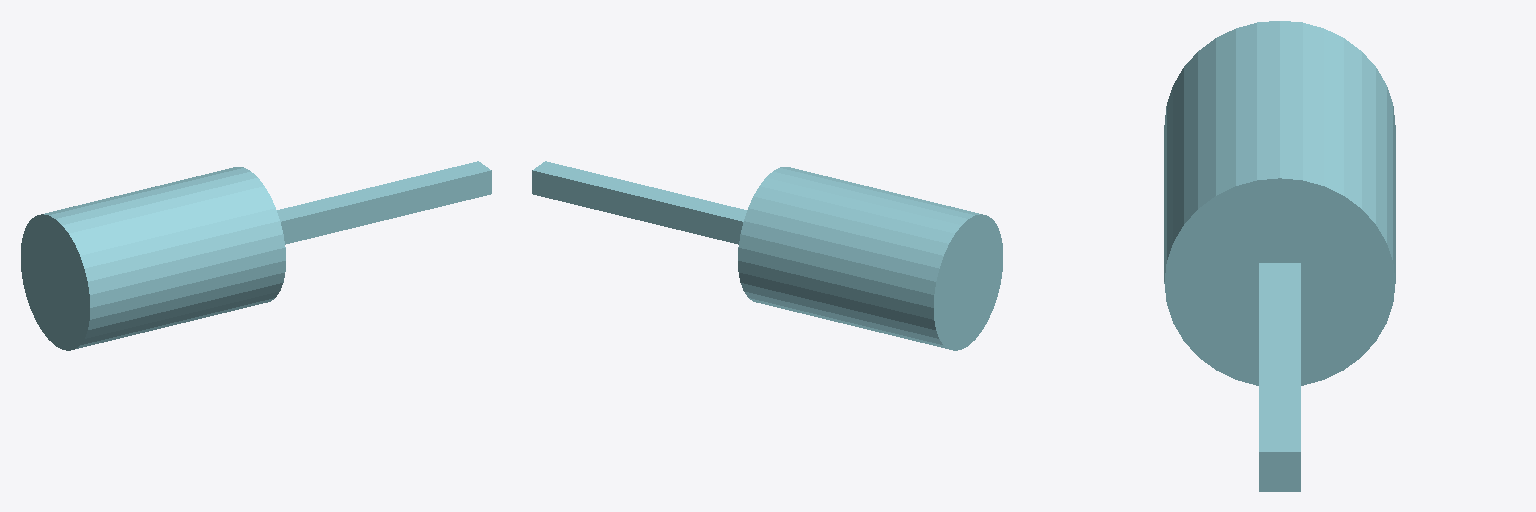
The robot description file, URDF, robot "cylinder_screwdriver_v3007":
<?xml version="1.0"?>
<robot name="cylinder_screwdriver_v3007">

  <link name="cylinder_screwdriver_v3007">
    <!-- Handle -->
    <visual>
      <origin xyz="0 0 0" rpy="0 1.5707963267948966 0"/>
      <geometry>
        <cylinder length="0.11242802443868122" radius="0.034788810108401534"/>
      </geometry>
      <material name="material">
        <color rgba="0.639 0.847 0.882 1.0"/>
      </material>
    </visual>
    <collision>
      <origin xyz="0 0 0" rpy="0 1.5707963267948966 0"/>
      <geometry>
        <cylinder length="0.11242802443868122" radius="0.034788810108401534"/>
      </geometry>
    </collision>

    <!-- Head -->
    <visual>
      <origin xyz="0.1233896853372237 0 0" rpy="0 0 0"/>
      <geometry>
        <box size="0.1343513462357662 0.0126636113803287 0.013164588146338103"/>
      </geometry>
      <material name="material">
        <color rgba="0.639 0.847 0.882 1.0"/>
      </material>
    </visual>
    <collision>
      <origin xyz="0.1233896853372237 0 0" rpy="0 0 0"/>
      <geometry>
        <box size="0.1343513462357662 0.0126636113803287 0.013164588146338103"/>
      </geometry>
    </collision>

    <inertial>
      <density value="400.0"/>
    </inertial>
  </link>

</robot>

--- Facts derived from the render (not from the file) ---
The picture shows the robot from 3 angles, left to right: view 1: azimuth 30°, elevation 25°; view 2: azimuth 150°, elevation 25°; view 3: azimuth 270°, elevation 25°; orthographic projection.
Robot: cylinder_screwdriver_v3007 — 1 links, 0 joints (none); root link cylinder_screwdriver_v3007; default pose: all joints at 0.
Links seen in each view (by area): view 1: cylinder_screwdriver_v3007; view 2: cylinder_screwdriver_v3007; view 3: cylinder_screwdriver_v3007.
Boxes of the visible links, x1,y1,x2,y2 form: cylinder_screwdriver_v3007: (21,161,491,350); cylinder_screwdriver_v3007: (532,161,1002,350); cylinder_screwdriver_v3007: (1164,21,1395,491).
Bounding box of the posed robot: 0.2468 × 0.0696 × 0.0696 m (x, y, z).
Geometry: primitives only (box / cylinder / sphere), no mesh files.
